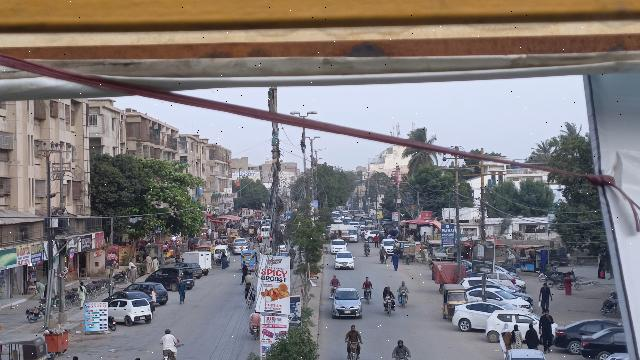Bike: (343, 340, 364, 360), (382, 296, 395, 319), (397, 290, 410, 310), (362, 286, 374, 304), (249, 322, 260, 341), (161, 347, 177, 360), (108, 312, 117, 332)
Car: (554, 318, 617, 353), (450, 300, 513, 332), (485, 306, 537, 341), (574, 322, 622, 359), (109, 298, 154, 326), (149, 266, 195, 292), (329, 287, 363, 321), (332, 250, 357, 272)
Person: (538, 308, 554, 353), (536, 282, 554, 312), (389, 338, 412, 360), (498, 322, 512, 355), (524, 322, 539, 350), (342, 323, 363, 343), (159, 327, 178, 348), (75, 280, 87, 309), (176, 278, 188, 305), (510, 323, 522, 349), (390, 250, 400, 272), (362, 276, 375, 288), (397, 280, 409, 292), (329, 273, 340, 286), (383, 285, 394, 298), (249, 308, 260, 321), (148, 287, 157, 301)
Rickshaw: (437, 281, 467, 319)
Truck: (181, 249, 212, 272)
